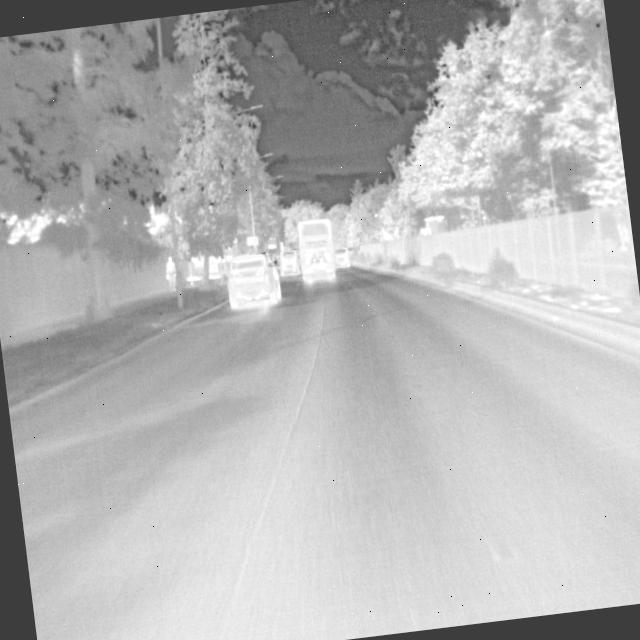Pedestrian: (162, 255, 179, 292)
Vehicle: (220, 247, 283, 312), (292, 214, 339, 288)
